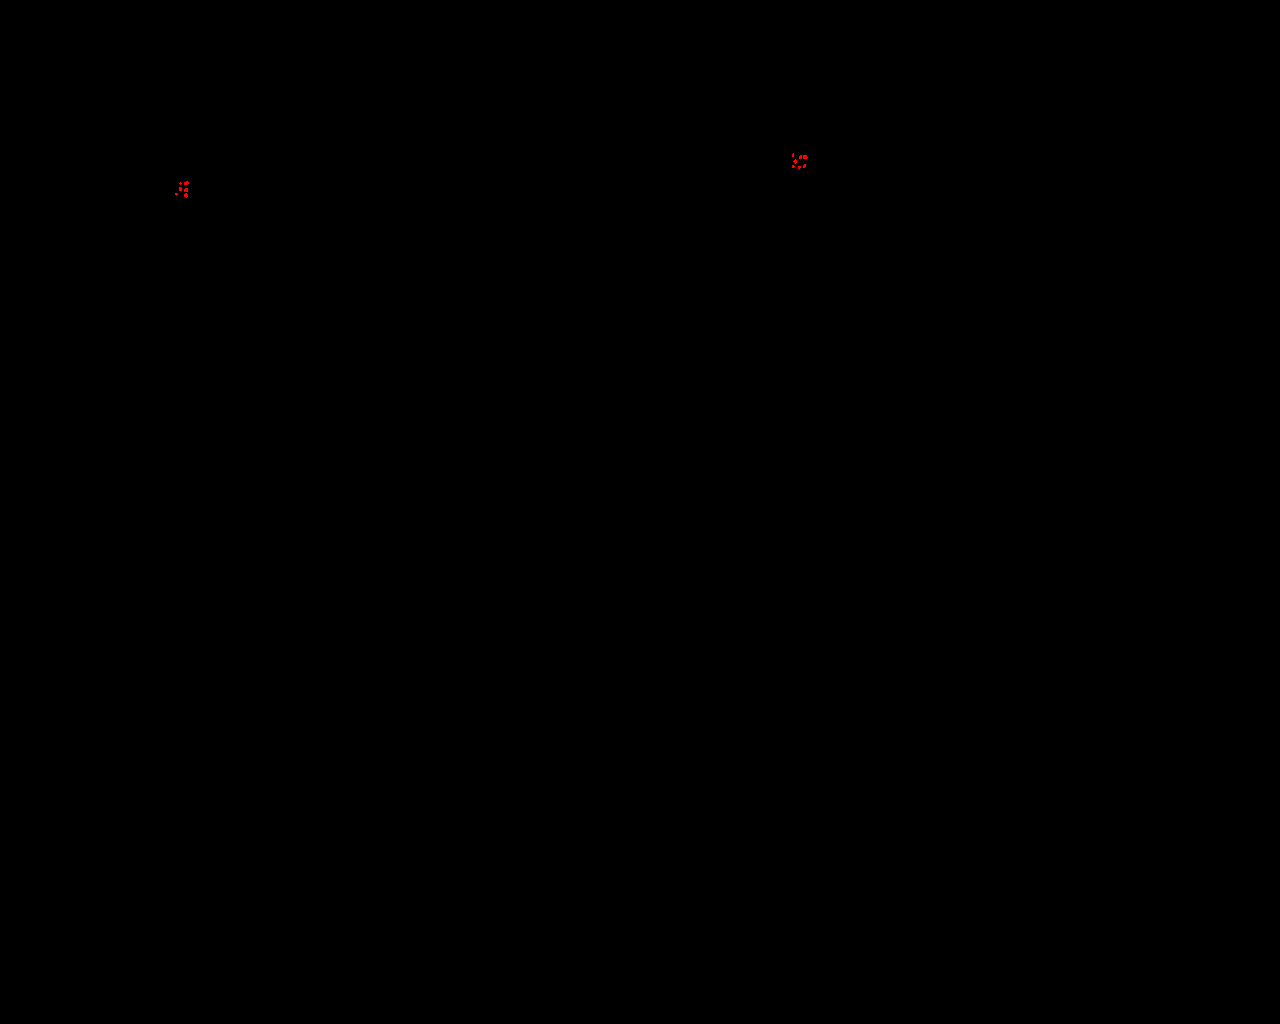Target: (802, 155, 808, 159), (793, 159, 797, 164), (184, 181, 189, 185), (184, 188, 188, 192), (184, 193, 188, 197), (799, 155, 802, 159), (802, 164, 806, 168), (179, 187, 182, 191), (792, 165, 795, 168), (798, 166, 801, 169), (179, 182, 182, 185), (174, 193, 178, 196), (792, 153, 794, 157)
